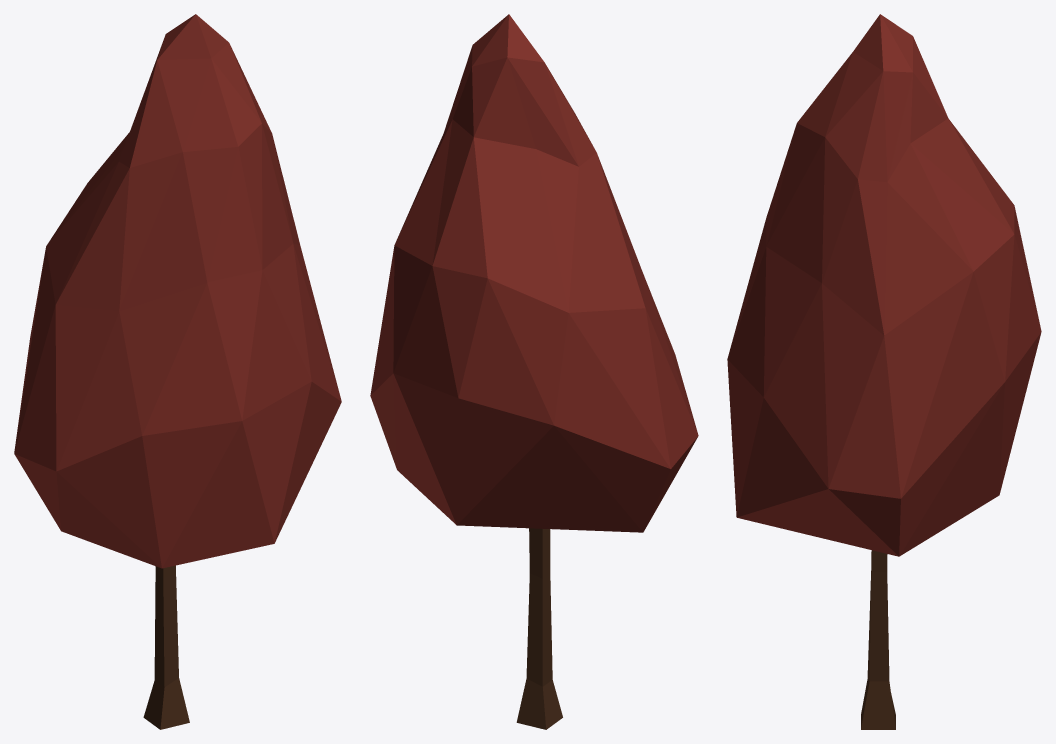
Rendered from Tree_37_Red.fbx.
The picture shows the model from 3 angles, left to right: view 1: azimuth 30°, elevation 25°; view 2: azimuth 150°, elevation 25°; view 3: azimuth 270°, elevation 25°; orthographic projection. The views are drawn at different scales.
Parts seen in each view (by area): view 1: Tree_37_Red_Part_1, Tree_37_Red_Part_2; view 2: Tree_37_Red_Part_1, Tree_37_Red_Part_2; view 3: Tree_37_Red_Part_1, Tree_37_Red_Part_2.
Part boxes in pixels (x1,y1,x2,y2): Tree_37_Red_Part_1: (14,14,341,568); Tree_37_Red_Part_2: (143,565,189,729); Tree_37_Red_Part_1: (370,14,698,532); Tree_37_Red_Part_2: (516,528,562,729); Tree_37_Red_Part_1: (727,14,1041,556); Tree_37_Red_Part_2: (861,550,895,729).
Size of the model in its own units: 358 by 797 by 314.
